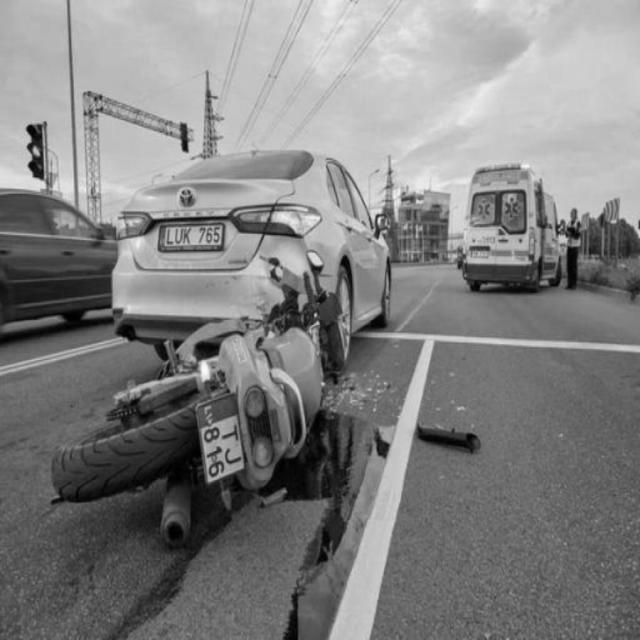accident: (71, 144, 395, 524)
person: (567, 208, 582, 291)
vehicle: (1, 185, 109, 317), (468, 176, 561, 287)
